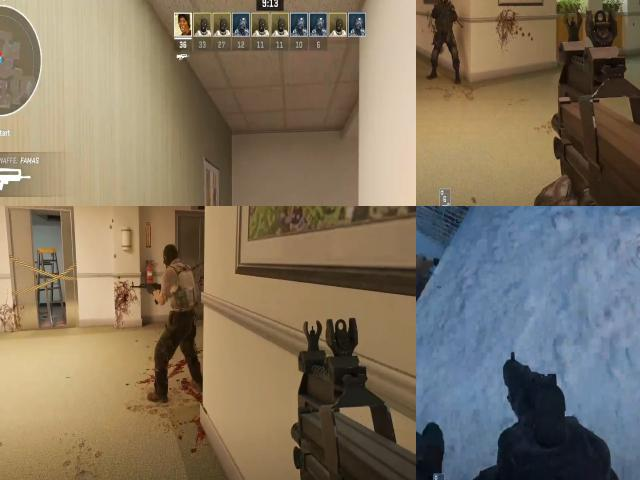CT: (431, 0, 456, 43)
CT-Head: (435, 0, 451, 11)
Dead: (416, 241, 434, 353)
T: (150, 238, 201, 329)
T-Head: (156, 240, 184, 272)
